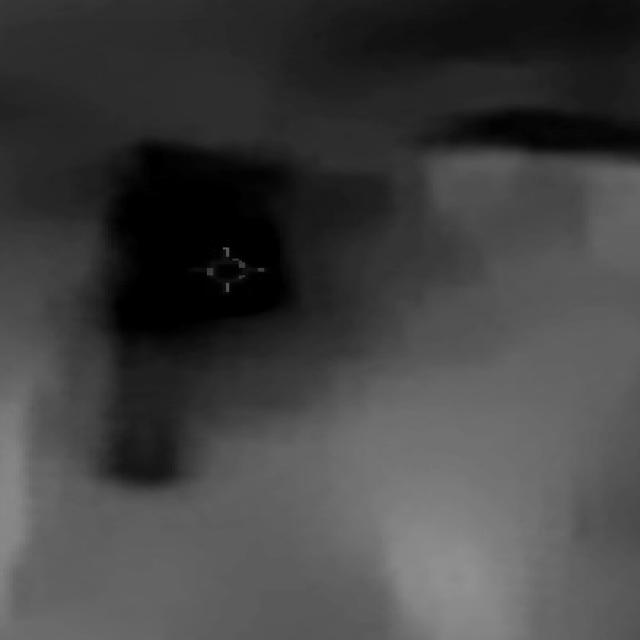Weapon: (24, 13, 640, 640)
